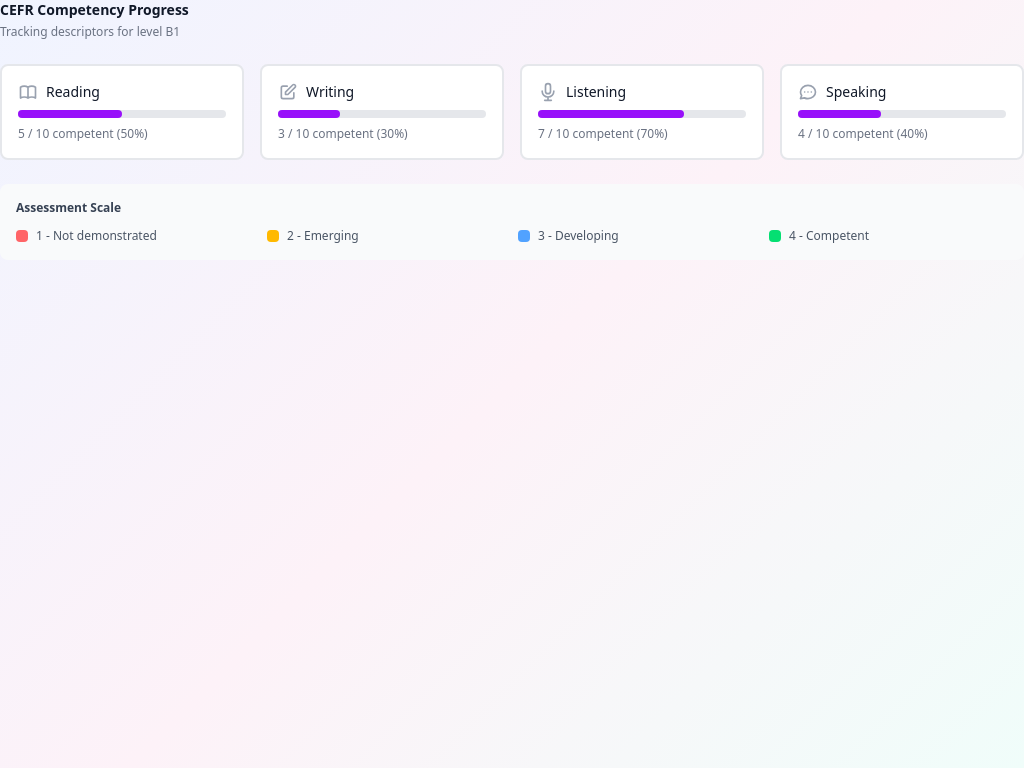
Test: CompetencyProgressTab › Skill Categories › allows selecting a category to view details
Step 1. Click the button "Reading 5 / 10 competent (50%)" → {"x": 122, "y": 112}, box left=0, top=64, right=244, bottom=160
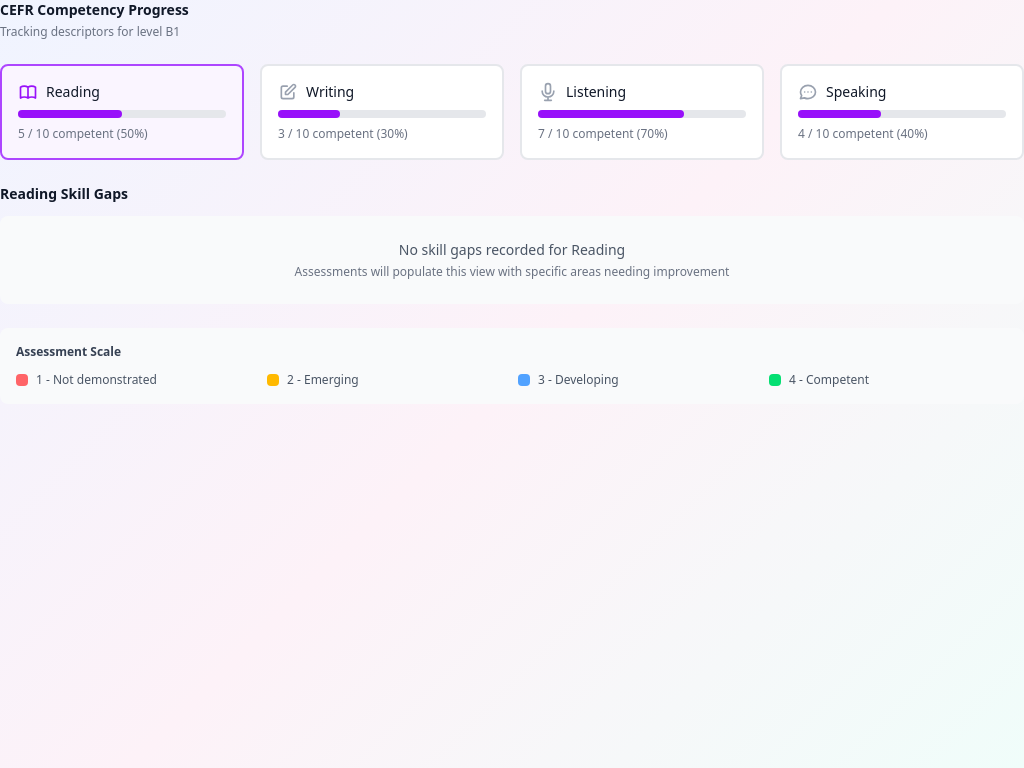
Expected: the heading "Reading Skill Gaps" is shown, left=0, top=184, right=128, bottom=203
